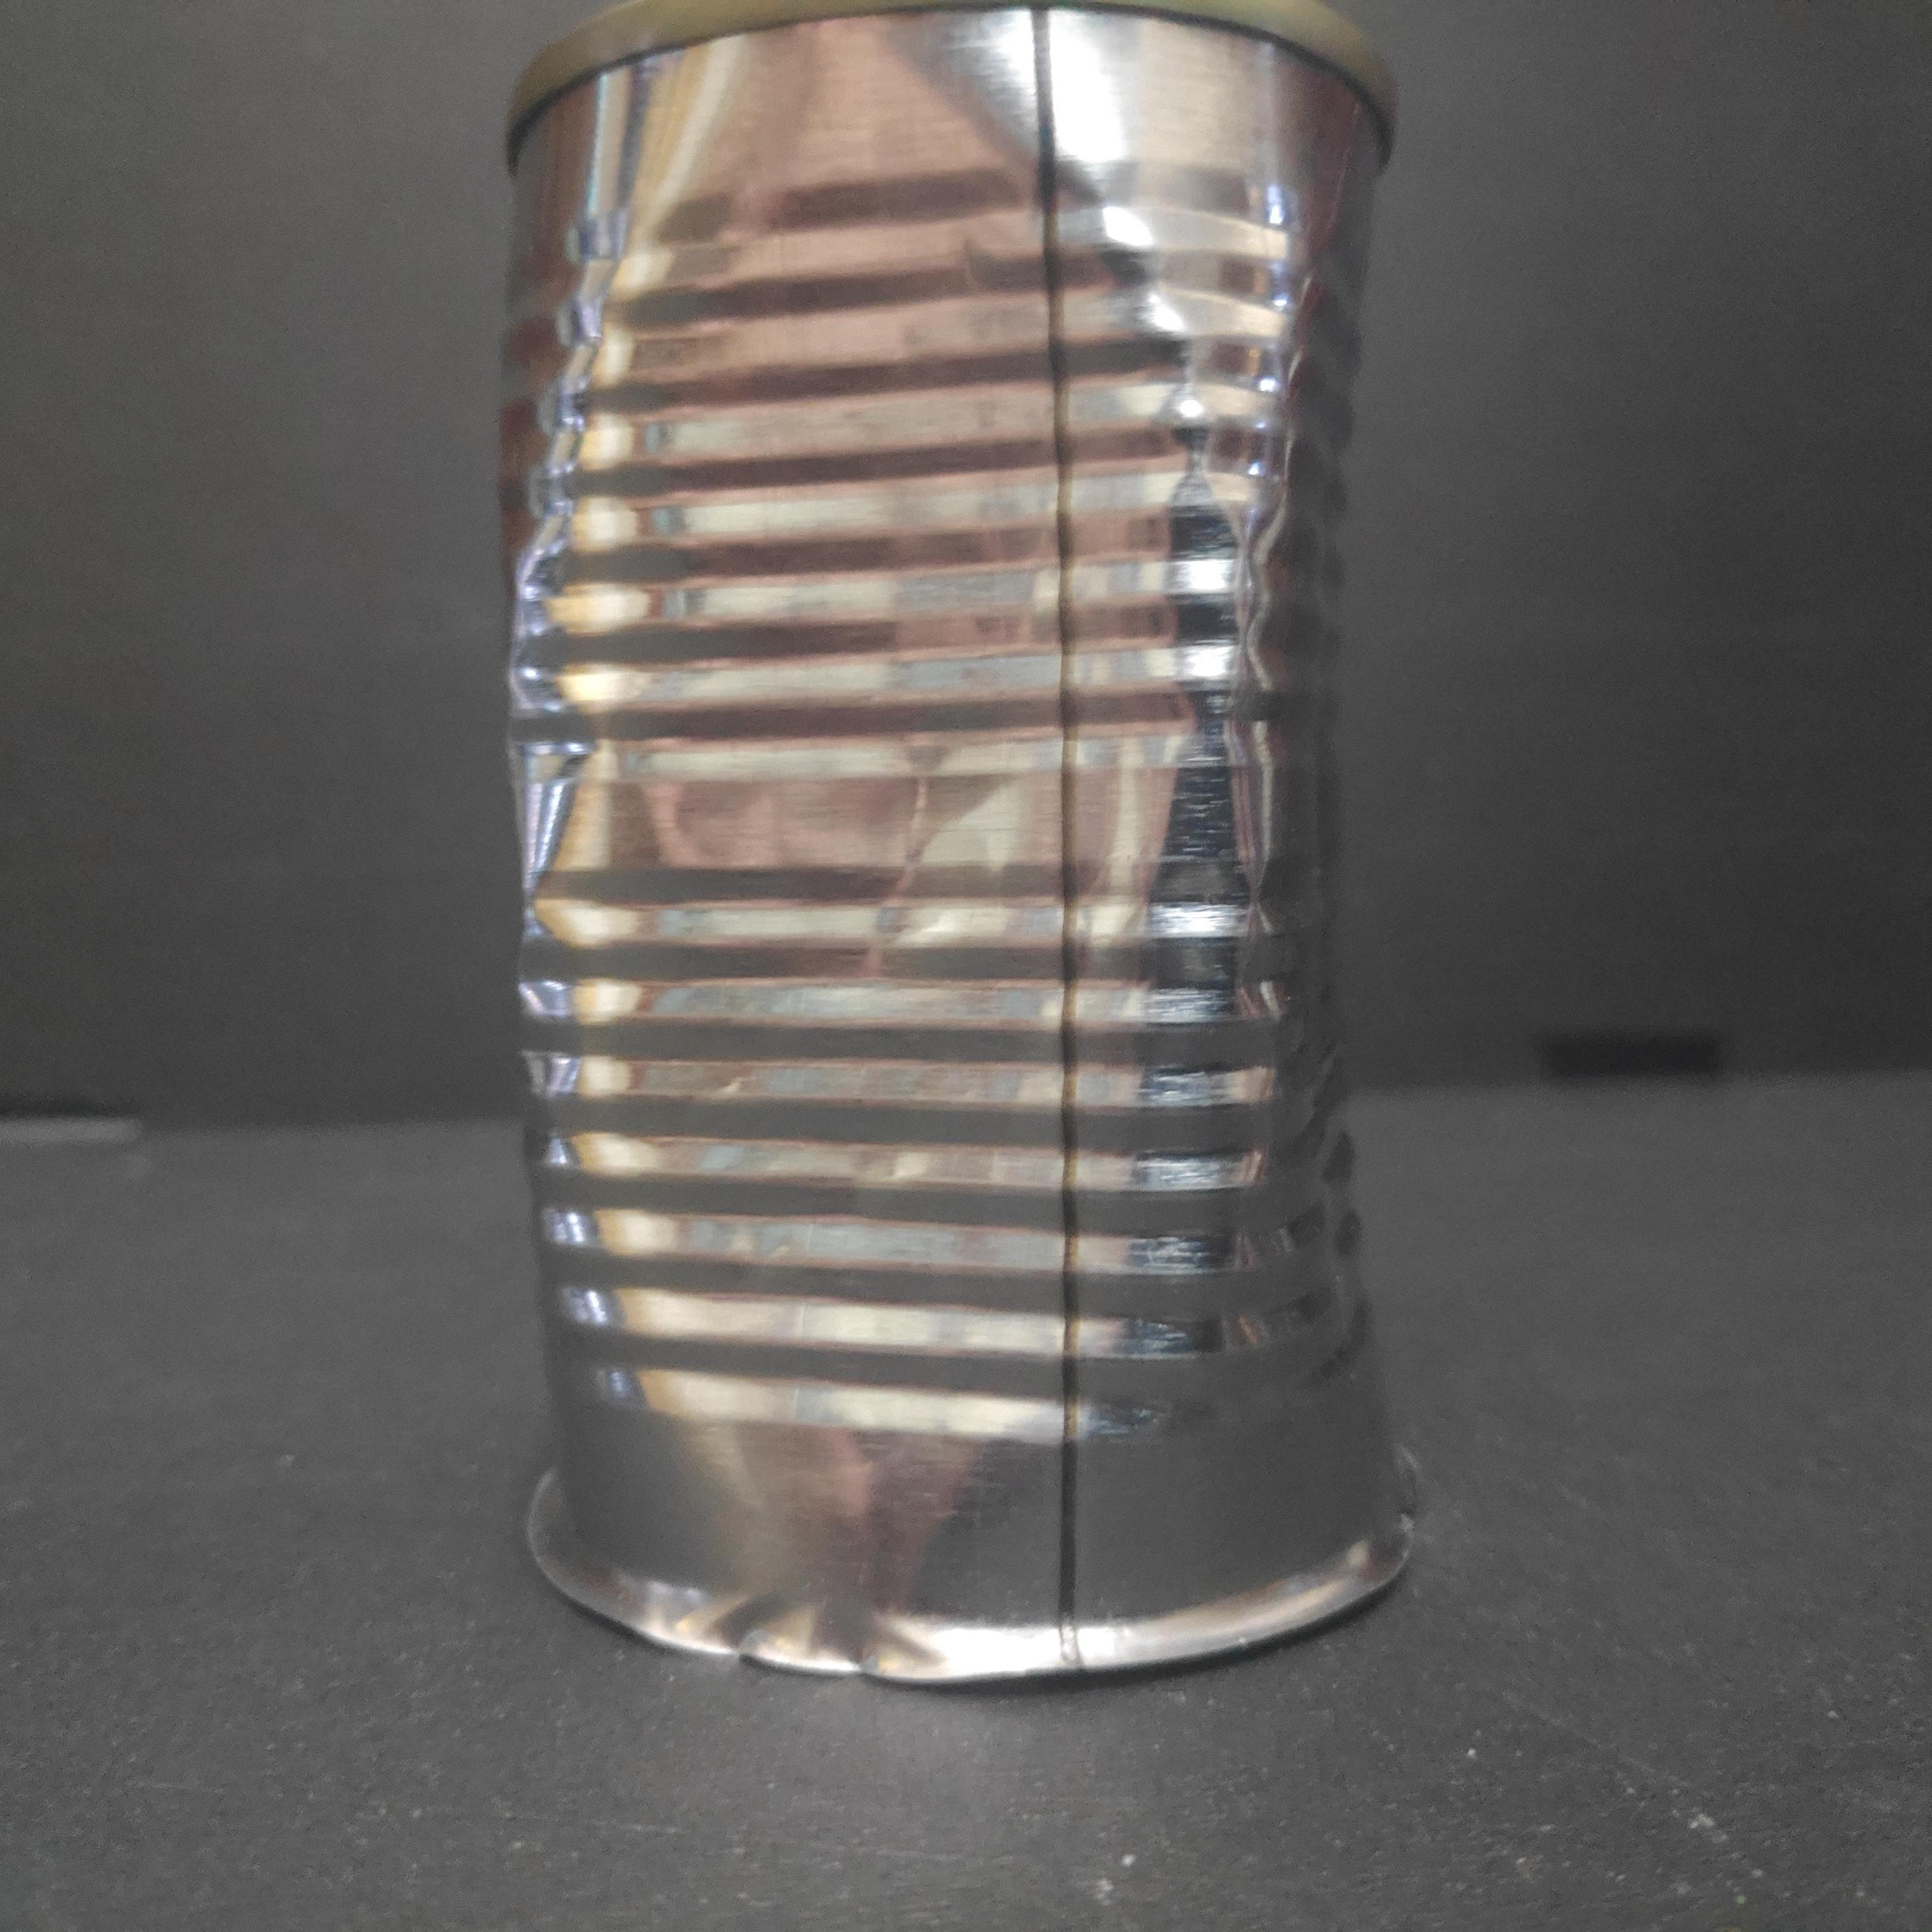Dented: (467, 0, 1451, 1686)
